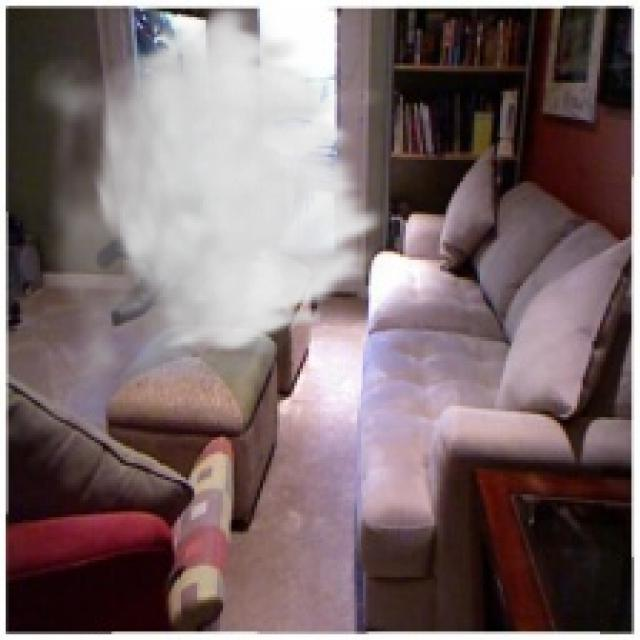smoke: (23, 3, 391, 428)
